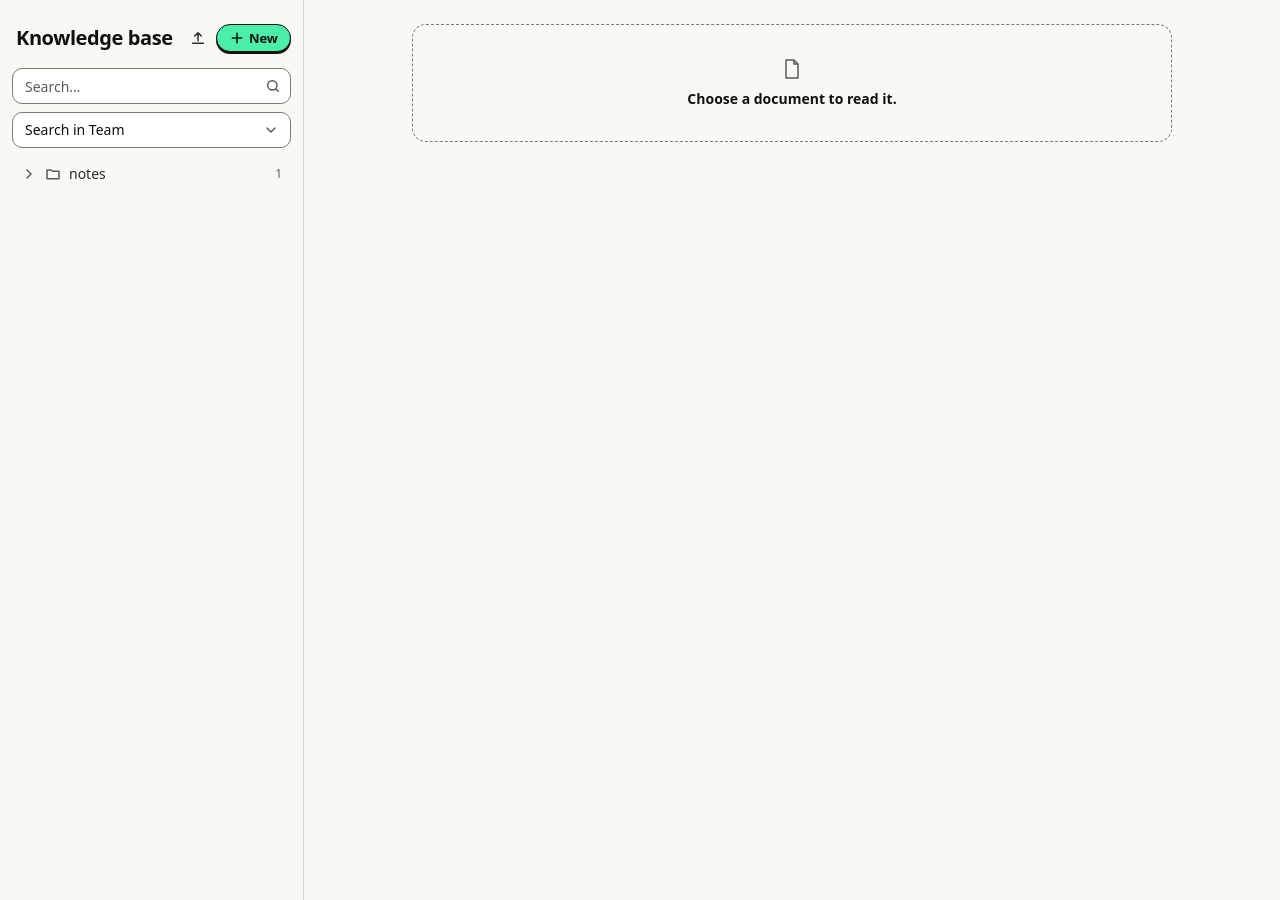
Test: a stale save whose document can't be reloaded offers no overwrite of an unseen version
The width and height of the screenshot is (1280, 900).
Click the button "notes 1" at (87, 174), box [12,160,291,188]
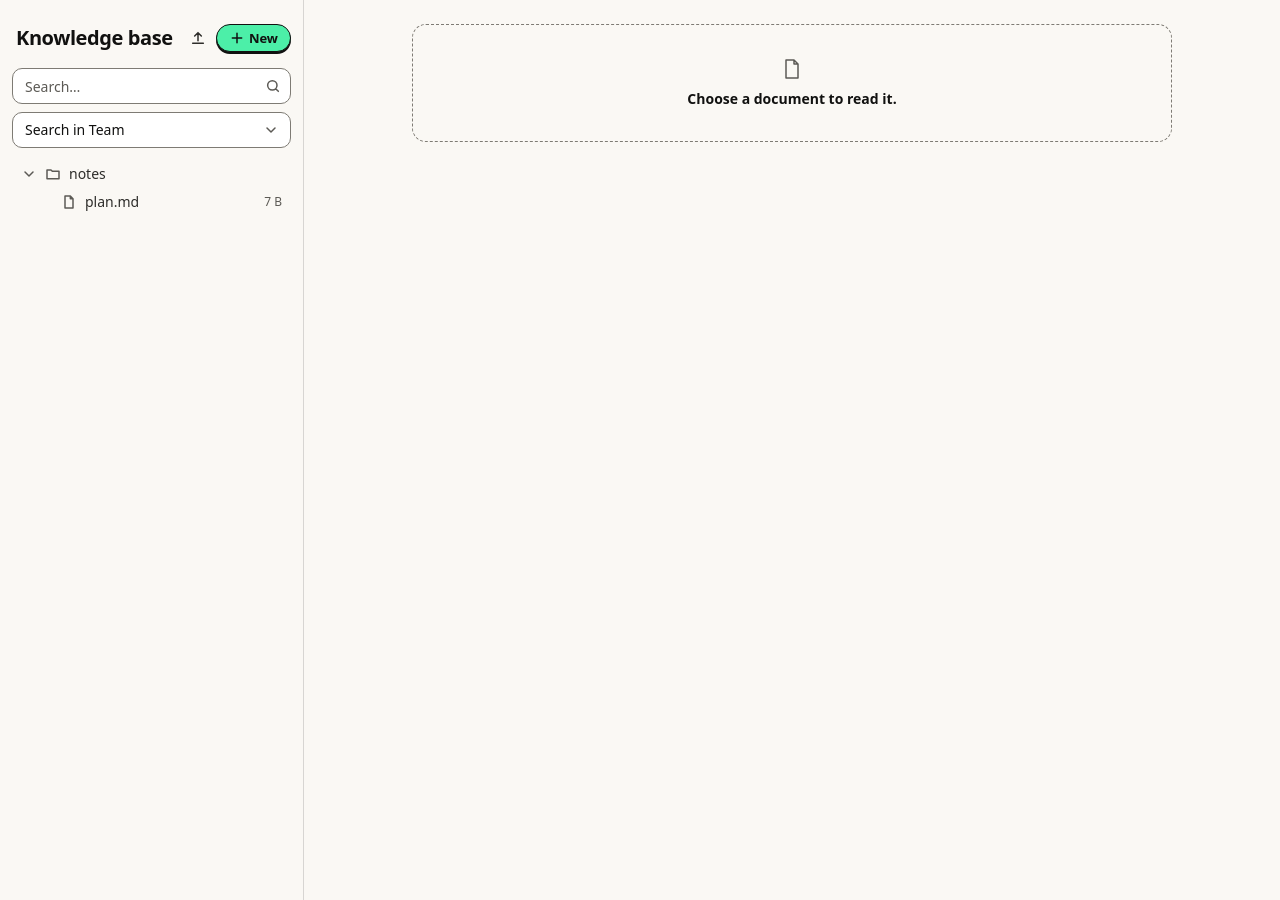
Click the button "plan.md 7 B" at (112, 202), box [12,188,291,216]
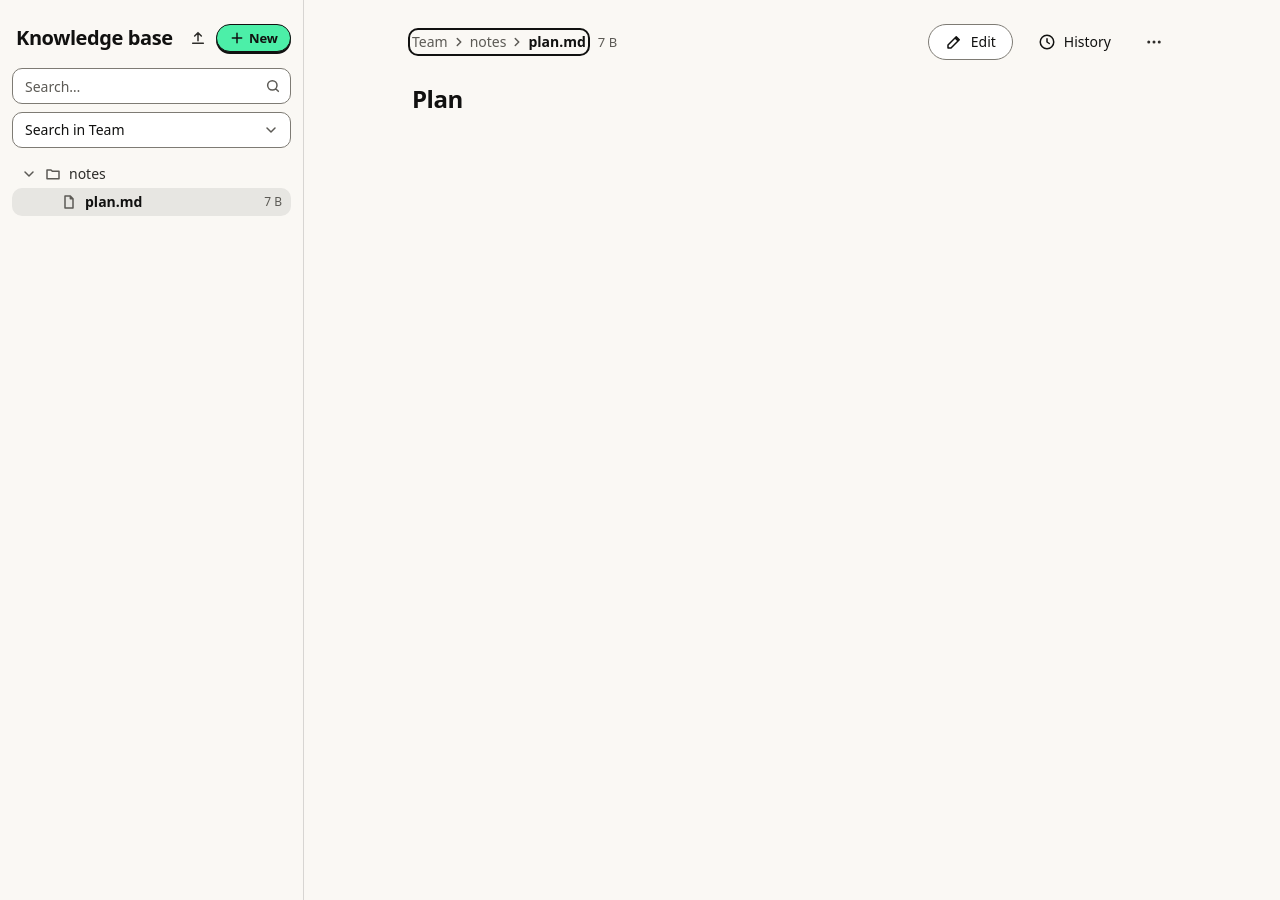
Click the button "Edit" at (970, 42), box [928,24,1013,60]
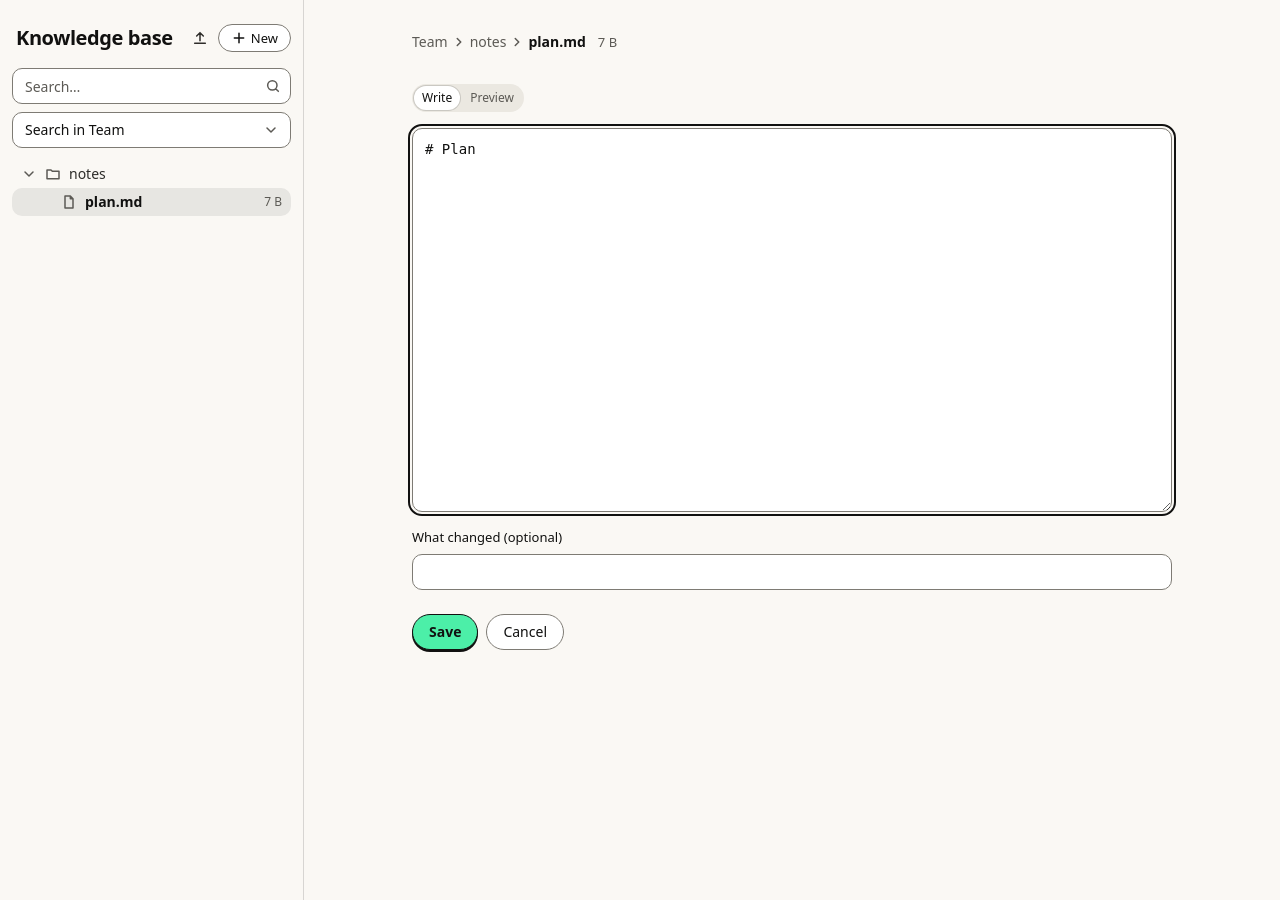
Replace the text in the text box named "Text" with "Mine." at (792, 320), box [412,128,1172,512]
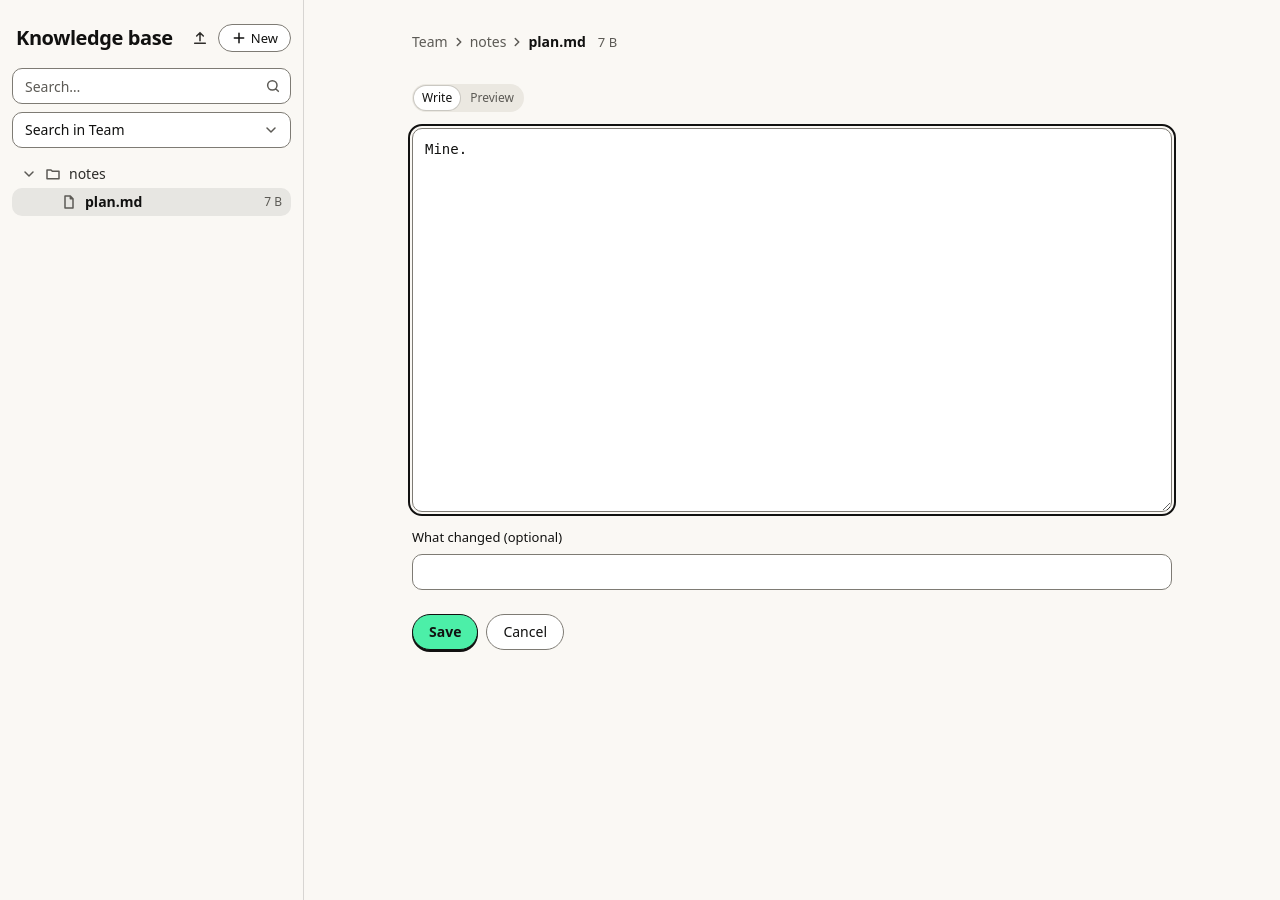
Click the button "Save" at (445, 632), box [412,614,478,650]
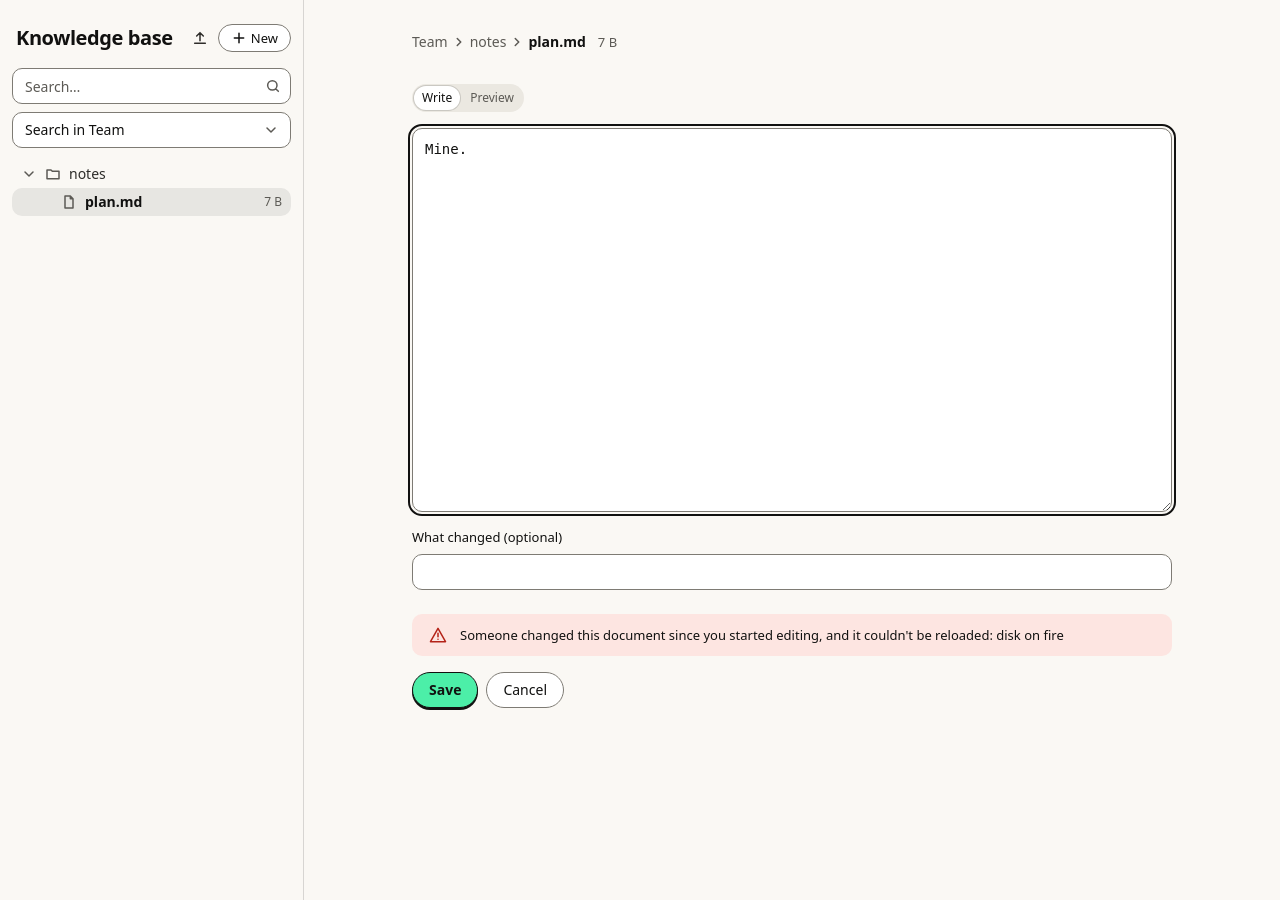
Result: the message shows "couldn't be reloaded: disk on fire" at [460,626,1064,644]
